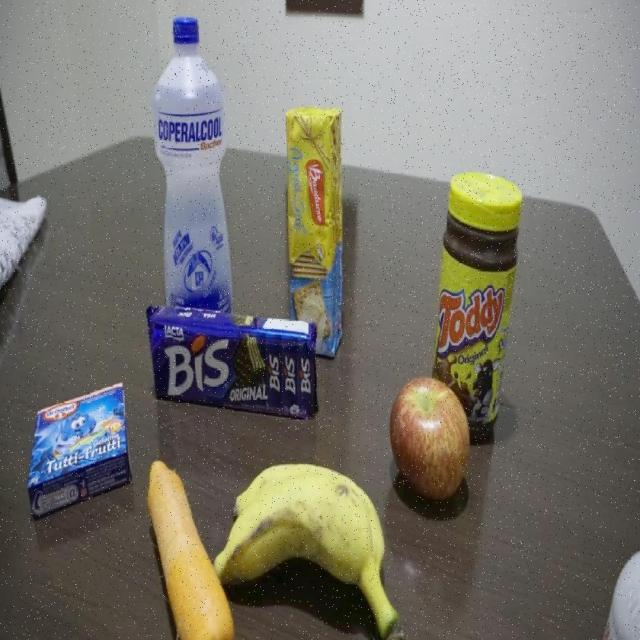AlcoholBottle: (152, 20, 234, 303)
Apple: (391, 376, 475, 501)
Banana: (223, 456, 393, 640)
Carrot: (144, 458, 218, 640)
ChocolatePowder: (438, 170, 515, 372)
Cracker: (286, 107, 343, 302)
Gelatine: (26, 385, 132, 525)
